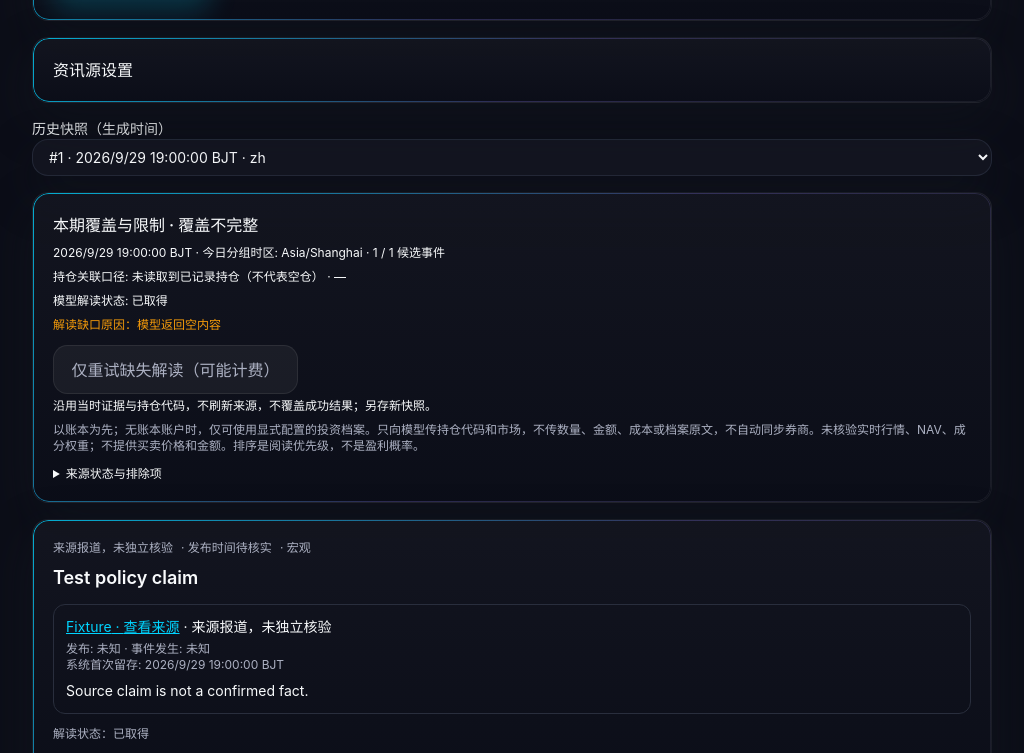
Test: MarketEventsPage › retries only on click and labels frozen evidence revisions
(page scrolled)
Expected: the heading "Test policy claim" is shown, 53,567 -> 198,588
Click the button "仅重试缺失解读（可能计费）" at (176, 370), box 53,345 -> 298,394
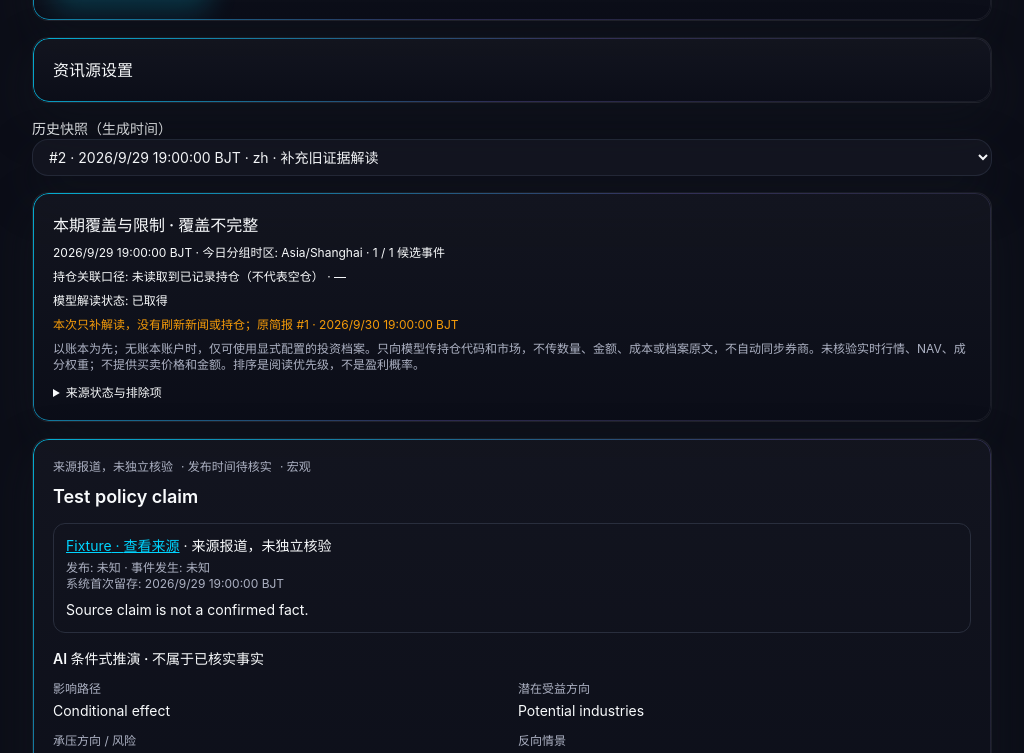
Result: the text "本次只补解读，没有刷新新闻或持仓；原简报 #1 · 2026/9/30 19:00:00 BJT" is shown at 53,317 -> 458,332
